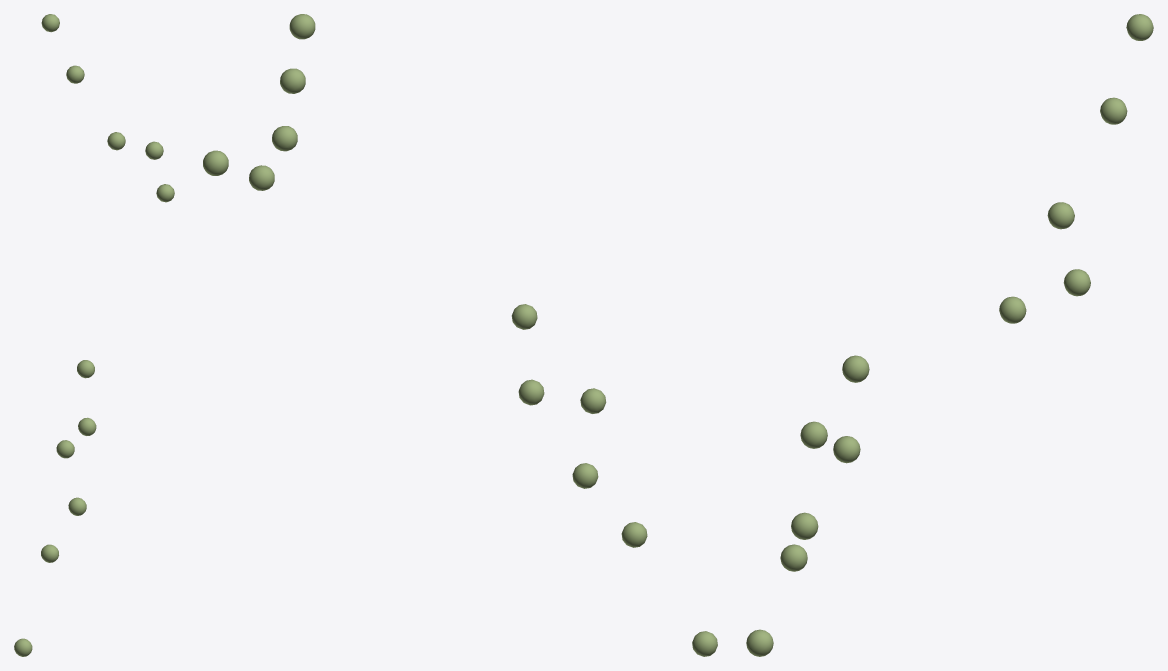
The model's file is detail-lymphatic-right-upper-limb.glb.
The picture shows the model from 3 angles, left to right: view 1: azimuth 30°, elevation 25°; view 2: azimuth 150°, elevation 25°; view 3: azimuth 270°, elevation 25°; orthographic projection. The views are drawn at different scales.
Visible parts, largest first — view 1: za-4e17f782bd60d237, za-d151deae16f1becb; view 2: za-4e17f782bd60d237, za-d151deae16f1becb; view 3: za-4e17f782bd60d237, za-d151deae16f1becb.
Boxes of the visible parts, x1,y1,x2,y2 form: za-4e17f782bd60d237: (14, 360, 96, 656); za-d151deae16f1becb: (41, 14, 174, 202); za-4e17f782bd60d237: (511, 304, 717, 656); za-d151deae16f1becb: (203, 14, 315, 190); za-4e17f782bd60d237: (746, 355, 869, 656); za-d151deae16f1becb: (999, 14, 1153, 323).
Size of the model in its own units: 0.0411 by 0.0787 by 0.0386.
